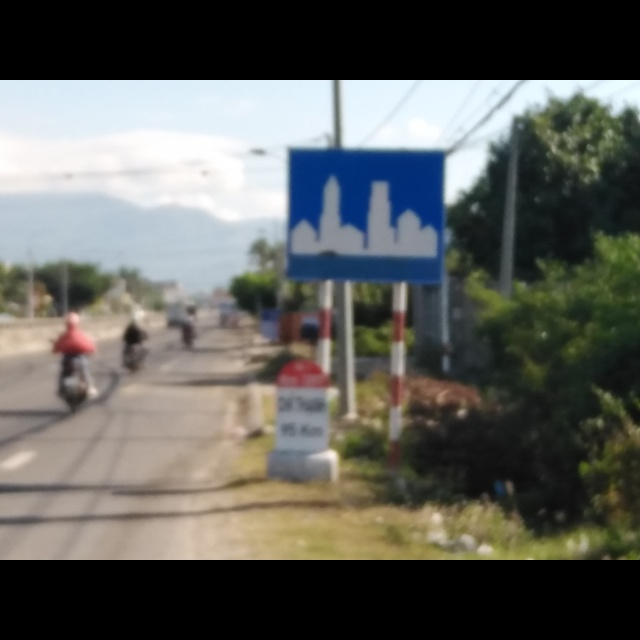Khu đông dân cư: (281, 139, 447, 287)
